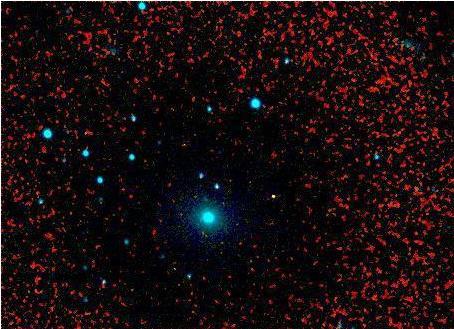star: (260, 185, 290, 215)
